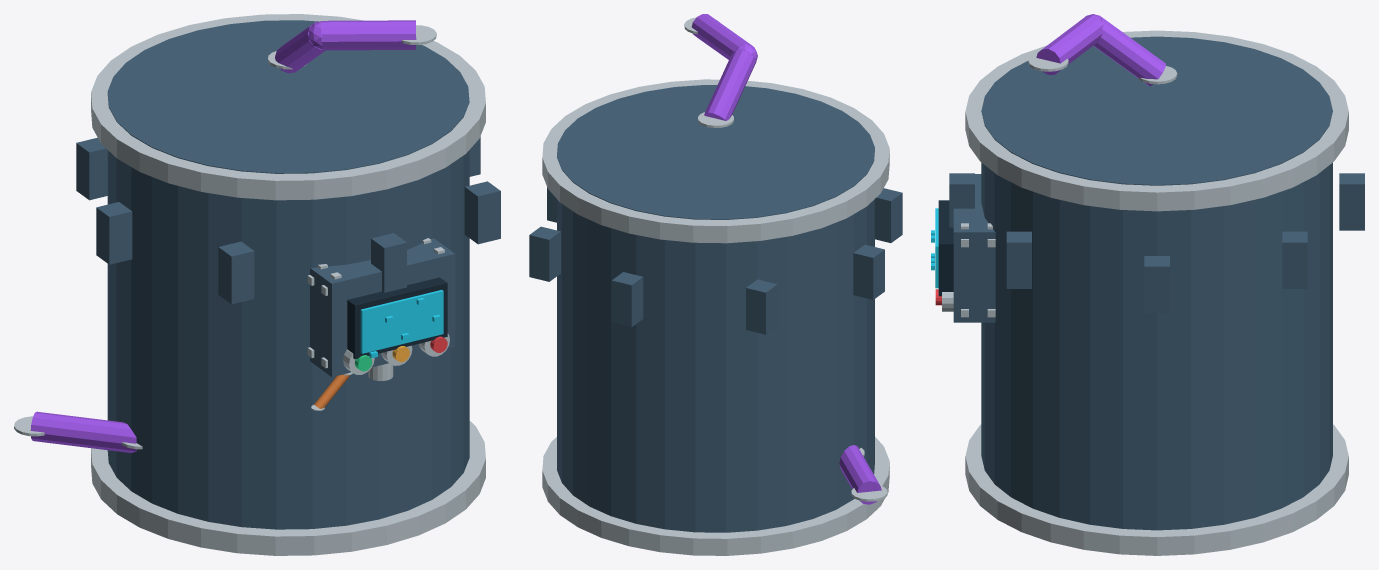
Rendered from 34_L77_BarrierProcessFluidReservoir.fbx.
3 renders of one model, left to right at view 1: azimuth 30°, elevation 25°; view 2: azimuth 150°, elevation 25°; view 3: azimuth 270°, elevation 25°, orthographic. The views are drawn at different scales.
Parts seen in each view (by area): view 1: BarrierProcessFluidReservoir; view 2: BarrierProcessFluidReservoir; view 3: BarrierProcessFluidReservoir.
Part boxes in pixels (x1,y1,x2,y2): BarrierProcessFluidReservoir: [14, 14, 500, 555]; BarrierProcessFluidReservoir: [529, 14, 902, 555]; BarrierProcessFluidReservoir: [931, 14, 1364, 555].
Bounding box in the file's own units: 146 × 159 × 136.
